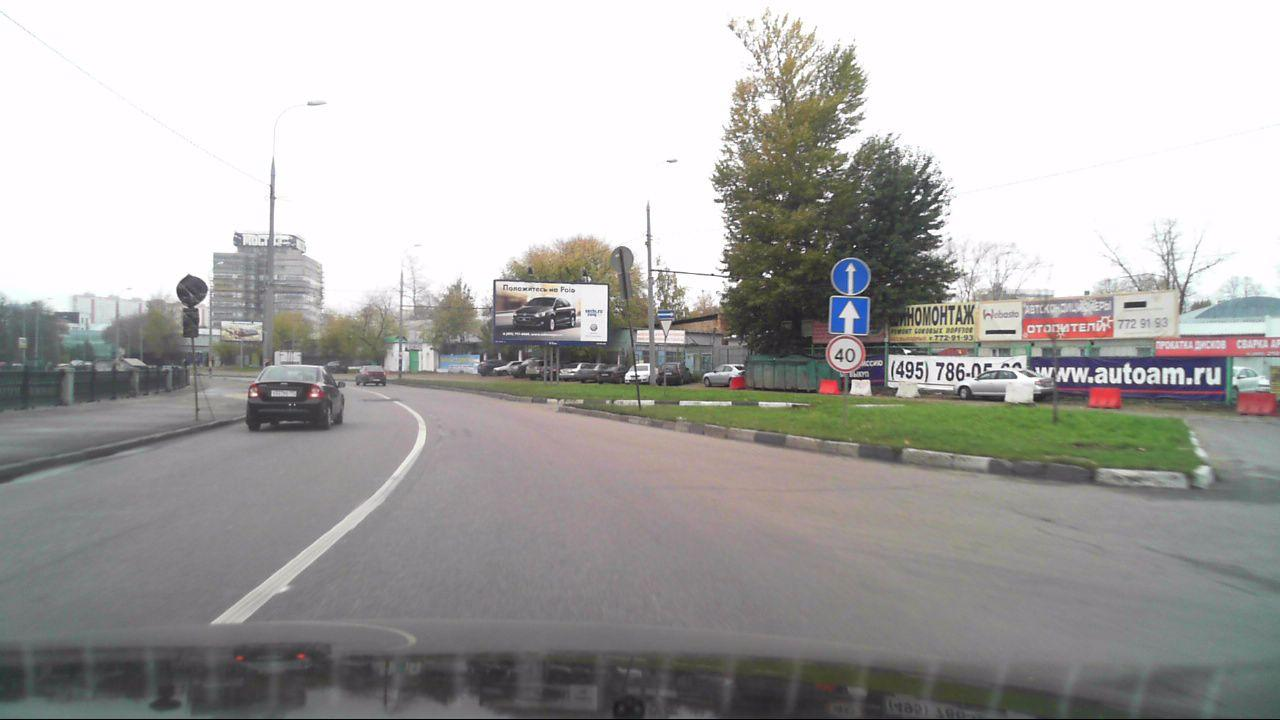2_4: (657, 320, 674, 338)
3_24: (827, 337, 864, 370)
4_1_1: (829, 255, 873, 296)
5_5: (827, 295, 872, 335)
5_7_1: (657, 308, 675, 319)
